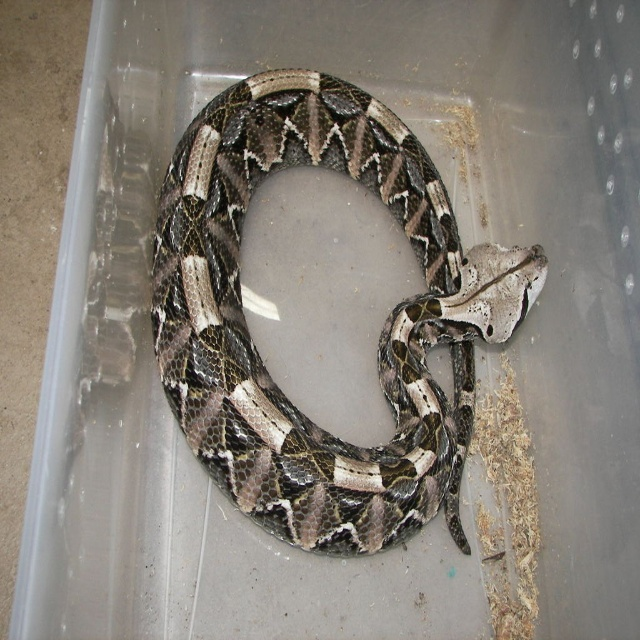Snake: (147, 63, 550, 560)
